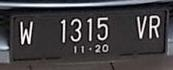1: (58, 18, 68, 48), (85, 16, 95, 43)
3: (68, 16, 83, 45)
5: (95, 15, 110, 42)
R: (148, 12, 161, 40)
V: (136, 14, 148, 40)
W: (18, 18, 34, 47)
